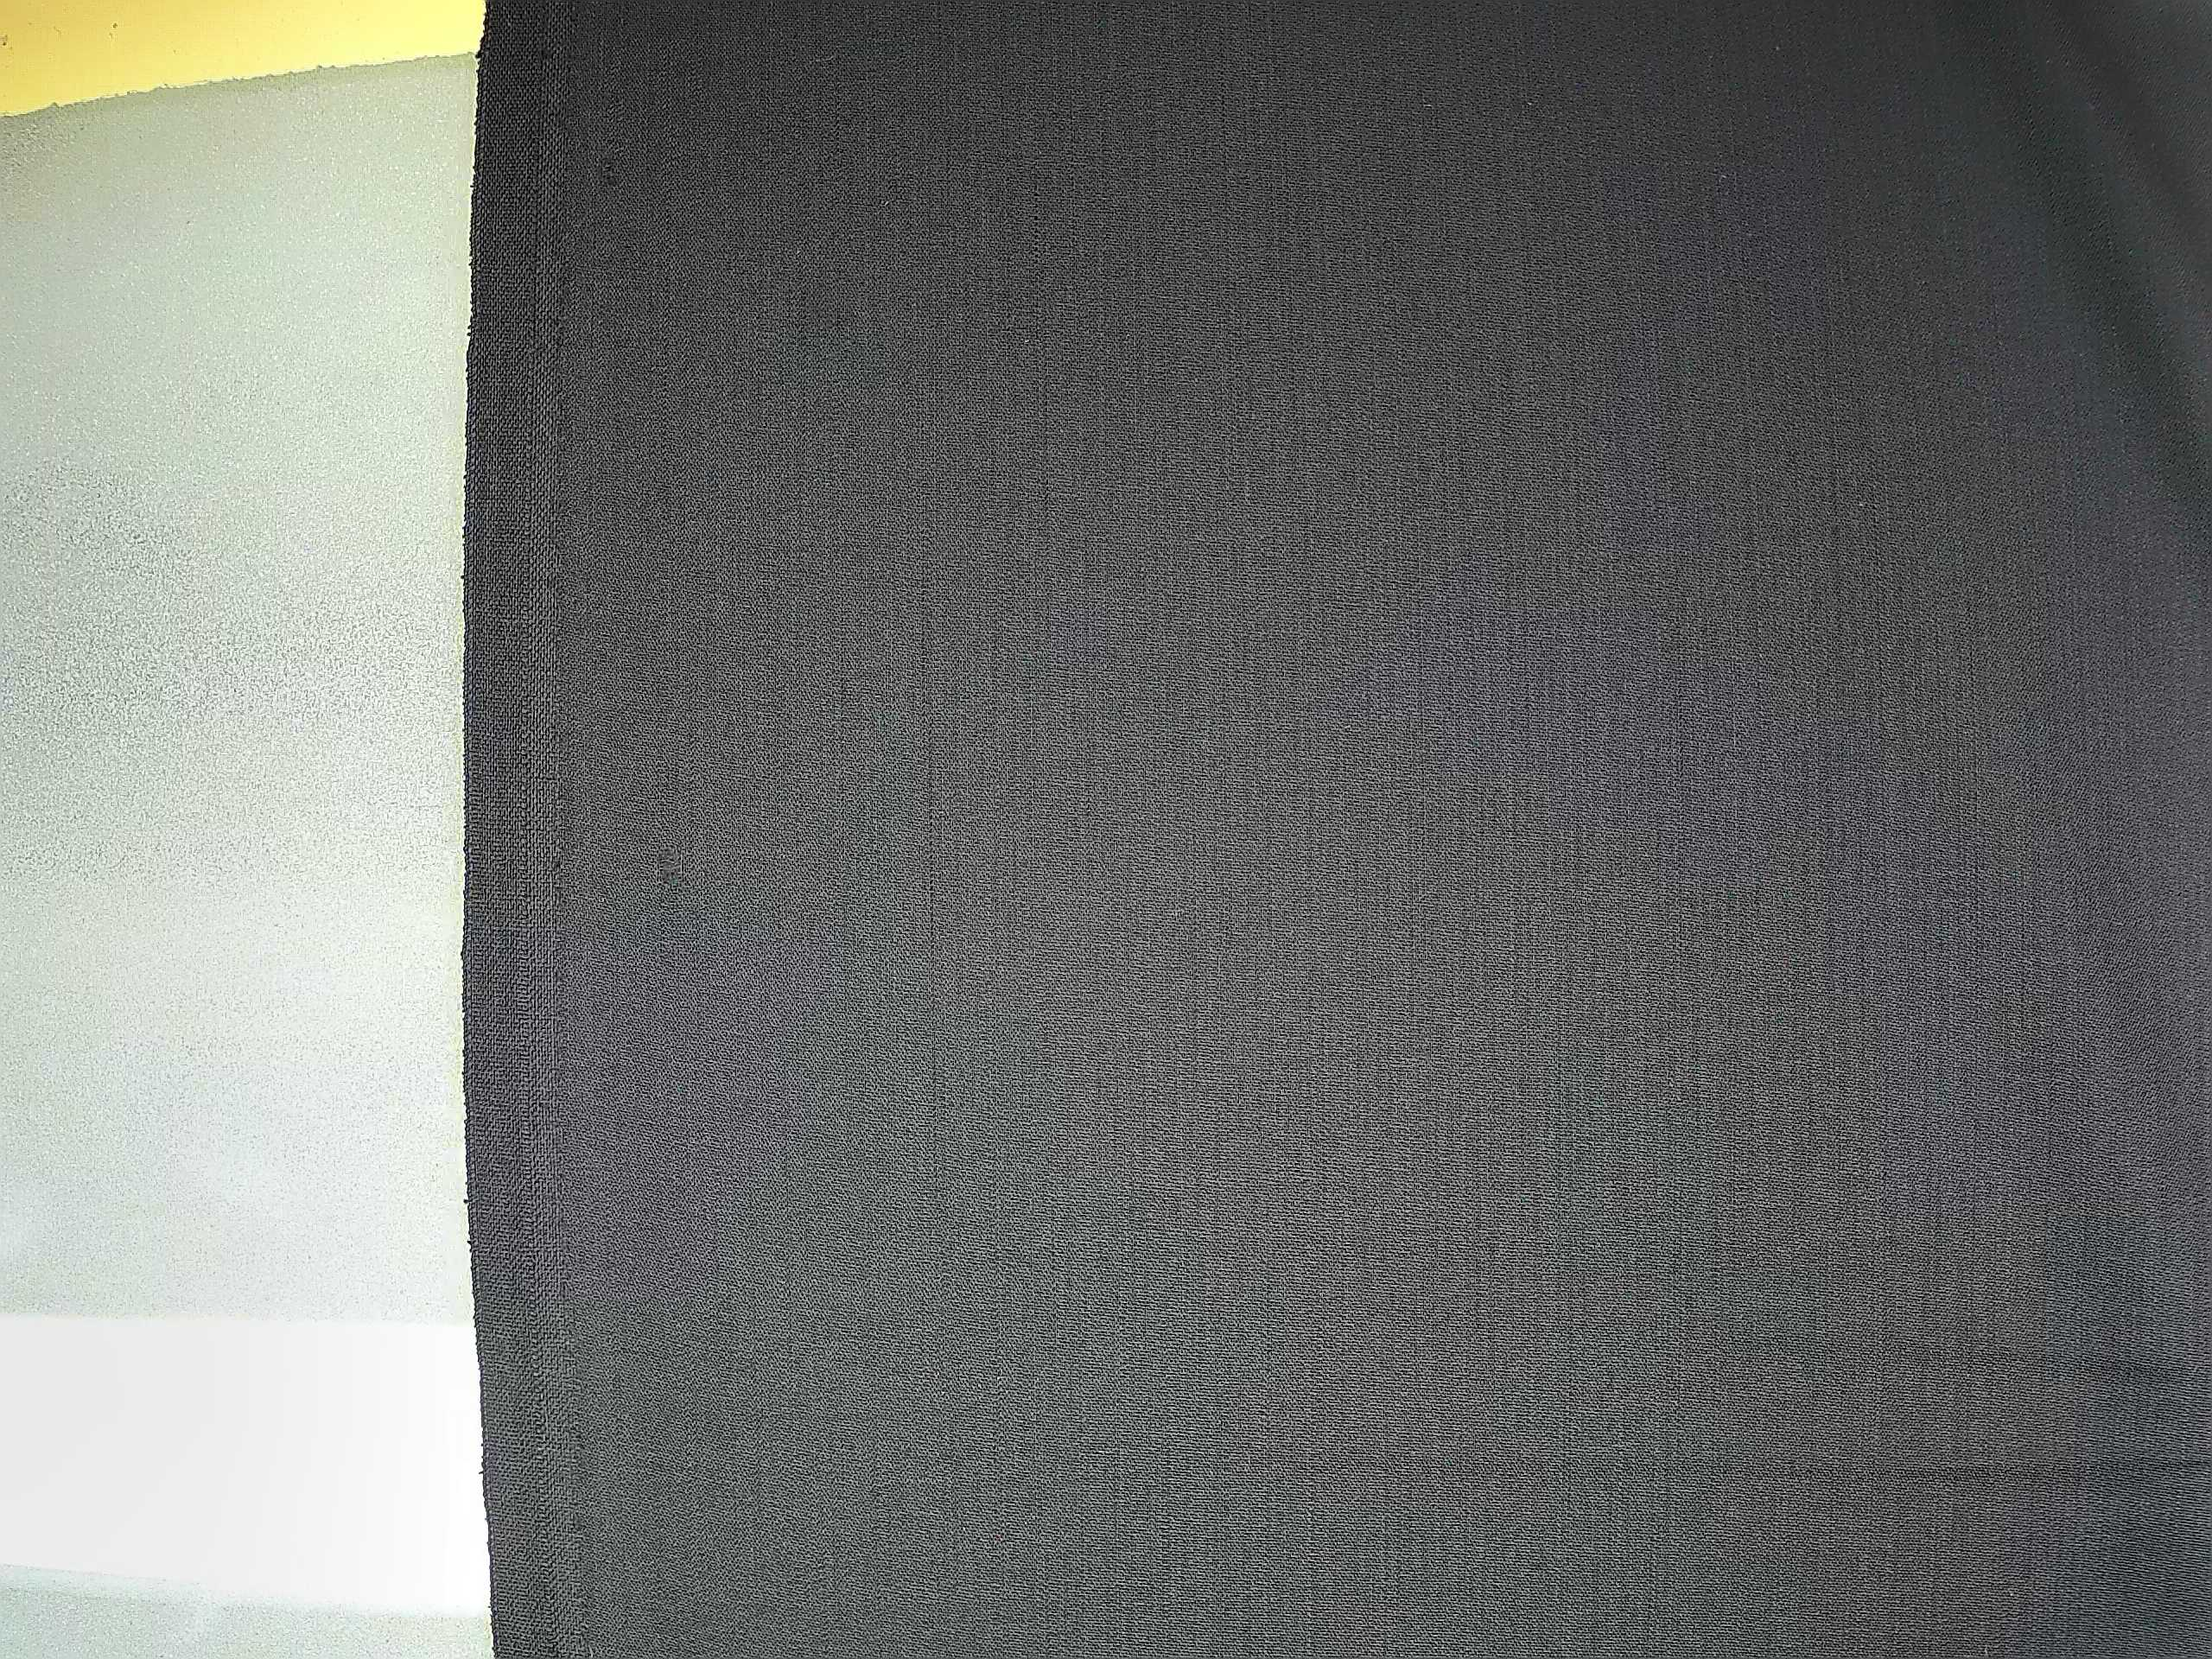hanging-warp: (909, 490, 948, 1201)
rubbing-hole: (648, 831, 697, 901), (589, 143, 634, 197)
